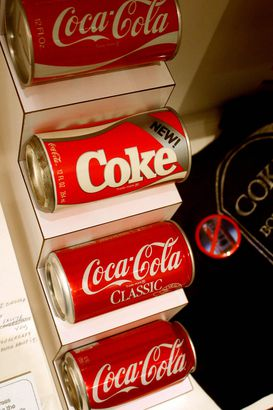Coca-Cola: (21, 7, 182, 69), (48, 322, 209, 384), (40, 233, 201, 295), (33, 124, 194, 186)
